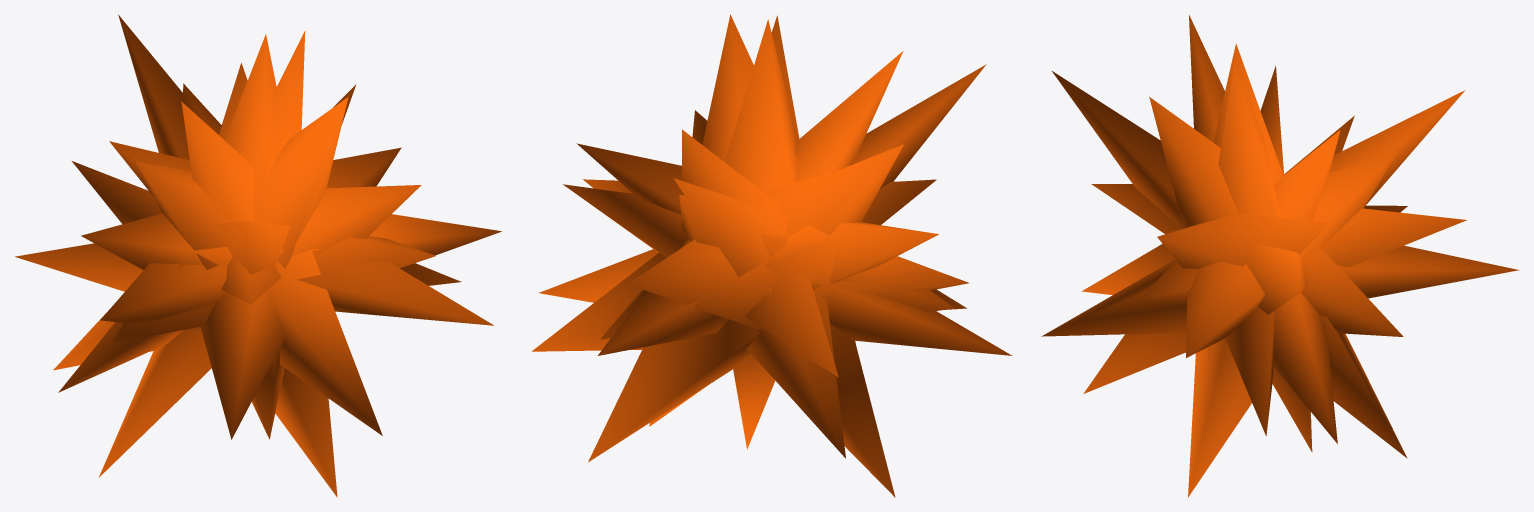
File: explosionFire.obj
The picture shows the model from 3 angles, left to right: view 1: azimuth 30°, elevation 25°; view 2: azimuth 150°, elevation 25°; view 3: azimuth 270°, elevation 25°; orthographic projection. The views are drawn at different scales.
Visible parts, largest first — view 1: ICO球; view 2: ICO球; view 3: ICO球.
Boxes of the visible parts, x1,y1,x2,y2 form: ICO球: (15, 14, 501, 497); ICO球: (532, 14, 1012, 497); ICO球: (1041, 15, 1519, 497).
Bounding box in the file's own units: 1 × 1 × 1.
Materials: 1 (1 with a texture image).
